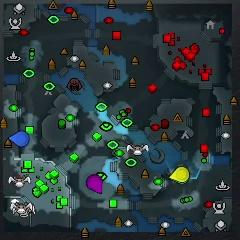p1: (8, 130, 29, 147)
p3: (86, 174, 103, 194)
p4: (170, 167, 189, 182)
